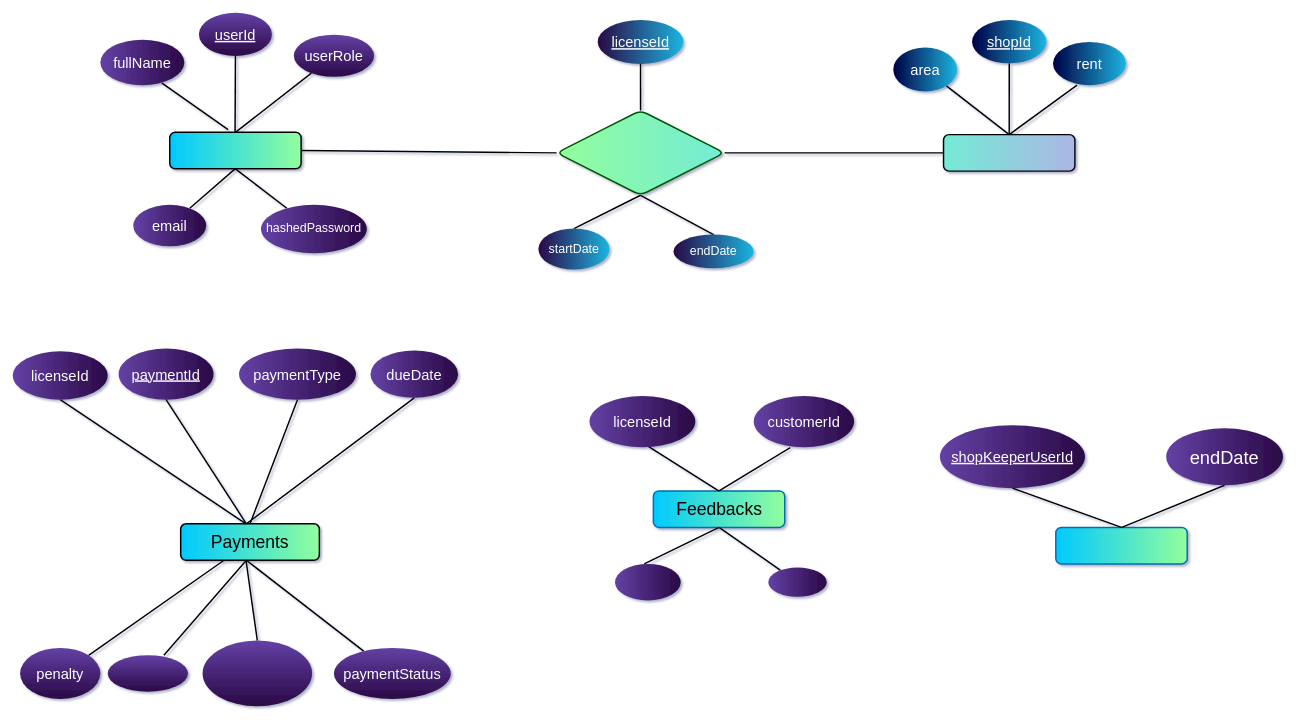
The diagram is 1299 pixels wide and 723 high, and some of its shapes have lost their labels. Here are the shapes that lost their labels. From the top down, the centre of each, then its label:
[235,150]: Users
[640,152]: Licenses
[1008,152]: Shops
[1121,545]: Gatepasses
[647,582]: rating
[797,581]: remarks
[147,673]: amount
[257,673]: paymentDate
